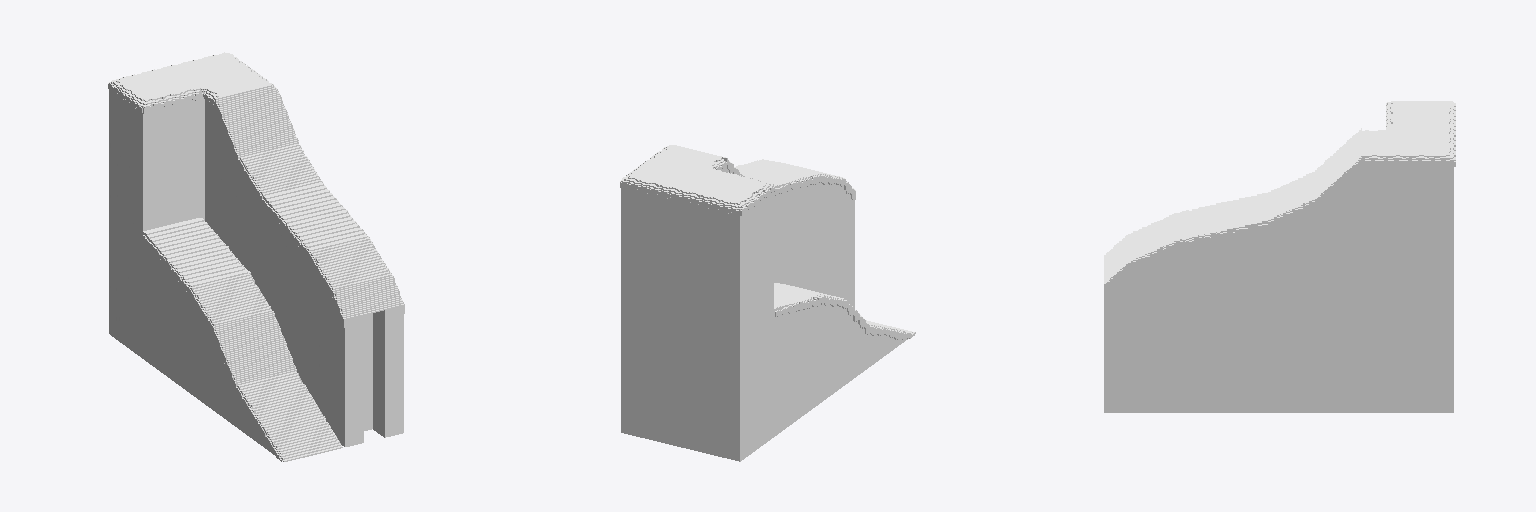
The model's file is Grass_Baseplate-1.obj.
The picture shows the model from 3 angles: view 1: azimuth 30°, elevation 25°; view 2: azimuth 150°, elevation 25°; view 3: azimuth 270°, elevation 25°; orthographic projection.
Parts seen in each view (by area): view 1: object 1; view 2: object 1; view 3: object 1.
Boxes of the visible parts, box(x1,y1,x2,y2) form: object 1: box(108, 52, 404, 461); object 1: box(620, 145, 915, 461); object 1: box(1104, 101, 1455, 412).
Bounding box in the file's own units: 9.6 × 19.2 × 24.